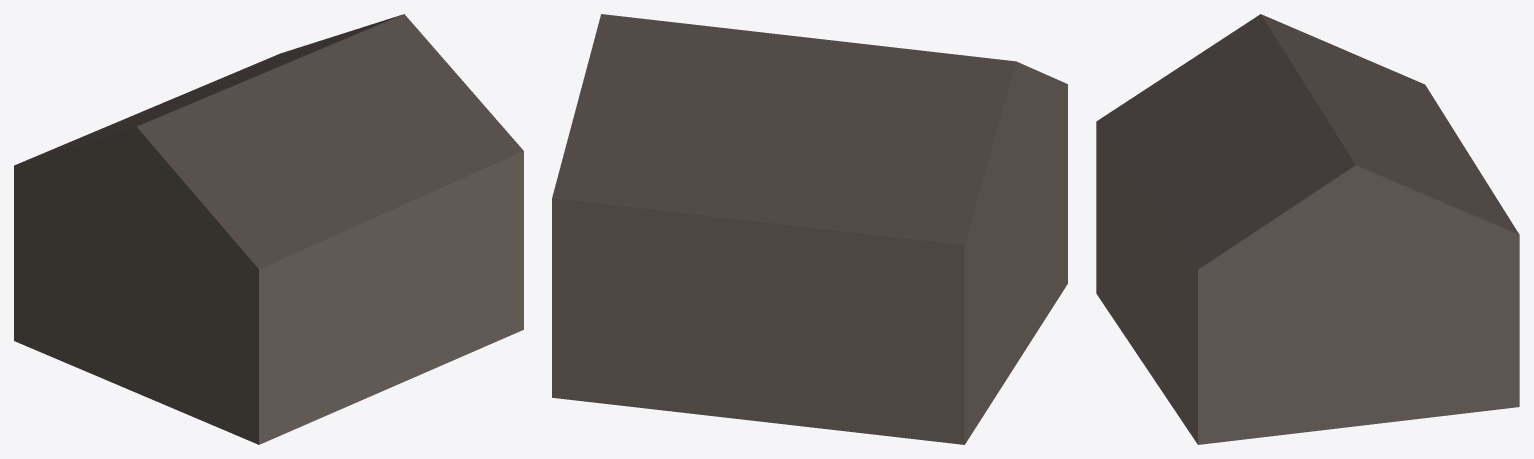
3 views of the same model, side by side, from view 1: azimuth 30°, elevation 25°; view 2: azimuth 150°, elevation 25°; view 3: azimuth 270°, elevation 25° (orthographic). The views are drawn at different scales.
Parts seen in each view (by area): view 1: HP-w1198667820; view 2: HP-w1198667820; view 3: HP-w1198667820.
Part boxes in pixels (x1=…): HP-w1198667820: x1=14, y1=14, x2=523, y2=444; HP-w1198667820: x1=552, y1=14, x2=1067, y2=444; HP-w1198667820: x1=1096, y1=14, x2=1519, y2=444.
Size of the model in its own units: 21.14 by 13.66 by 20.08.
